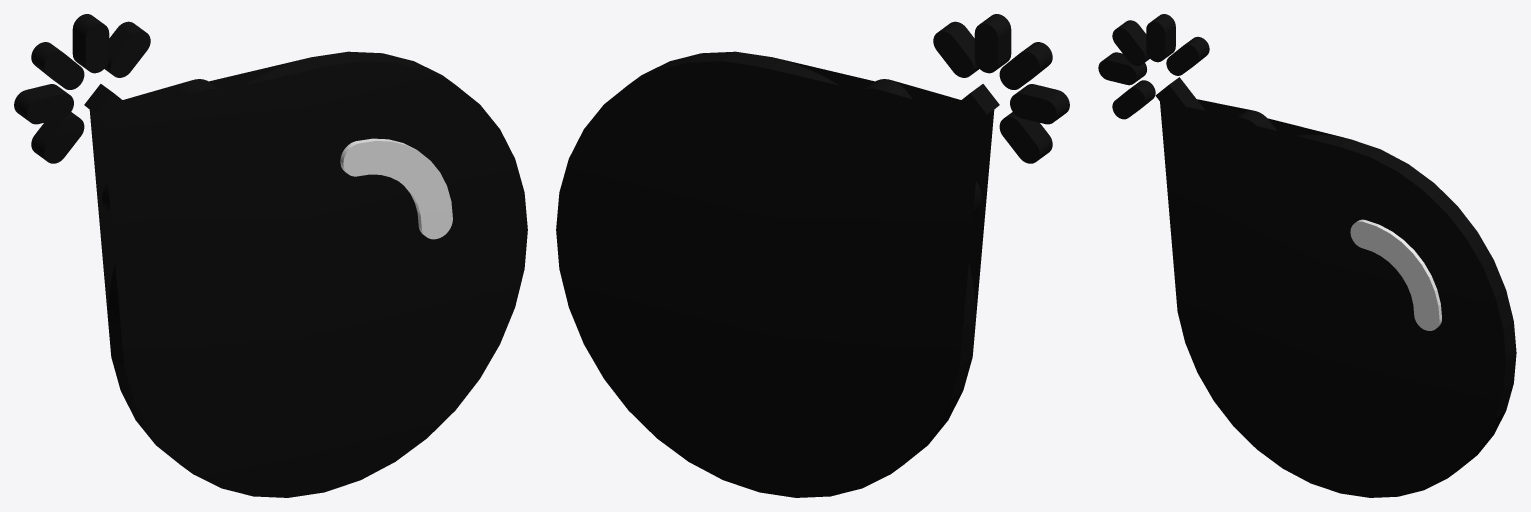
File: bomb.fbx
The picture shows the model from 3 angles, left to right: view 1: azimuth 30°, elevation 25°; view 2: azimuth 150°, elevation 25°; view 3: azimuth 330°, elevation 25°; orthographic projection. The views are drawn at different scales.
Visible parts, largest first — view 1: bomb; view 2: bomb; view 3: bomb.
Boxes of the visible parts, box(x1,y1,x2,y2) form: bomb: box(14, 14, 527, 497); bomb: box(556, 14, 1069, 497); bomb: box(1098, 14, 1516, 497).
Bounding box in the file's own units: 212 × 212 × 11.94.
